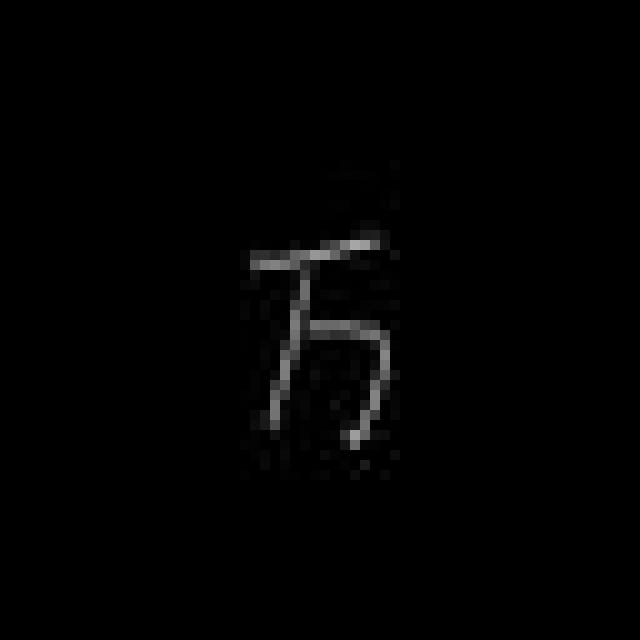10000 -a ten thousand-: (235, 218, 403, 466)
